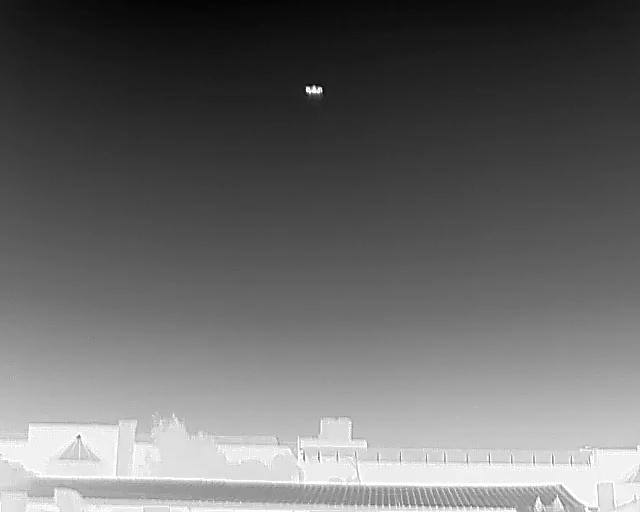fpv-drone: (305, 85, 323, 96)
